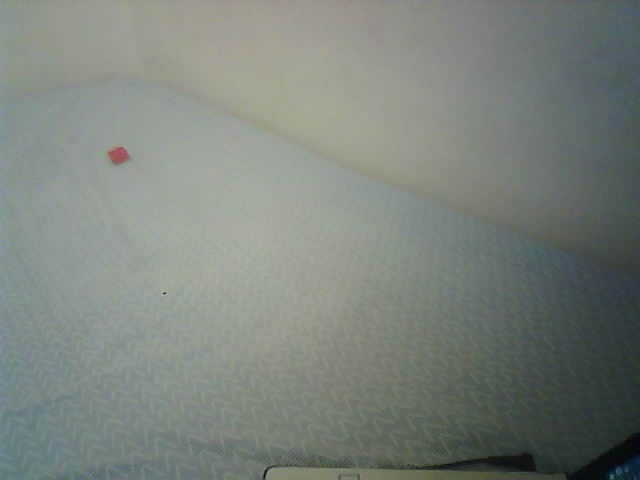lego: (107, 146, 130, 166)
